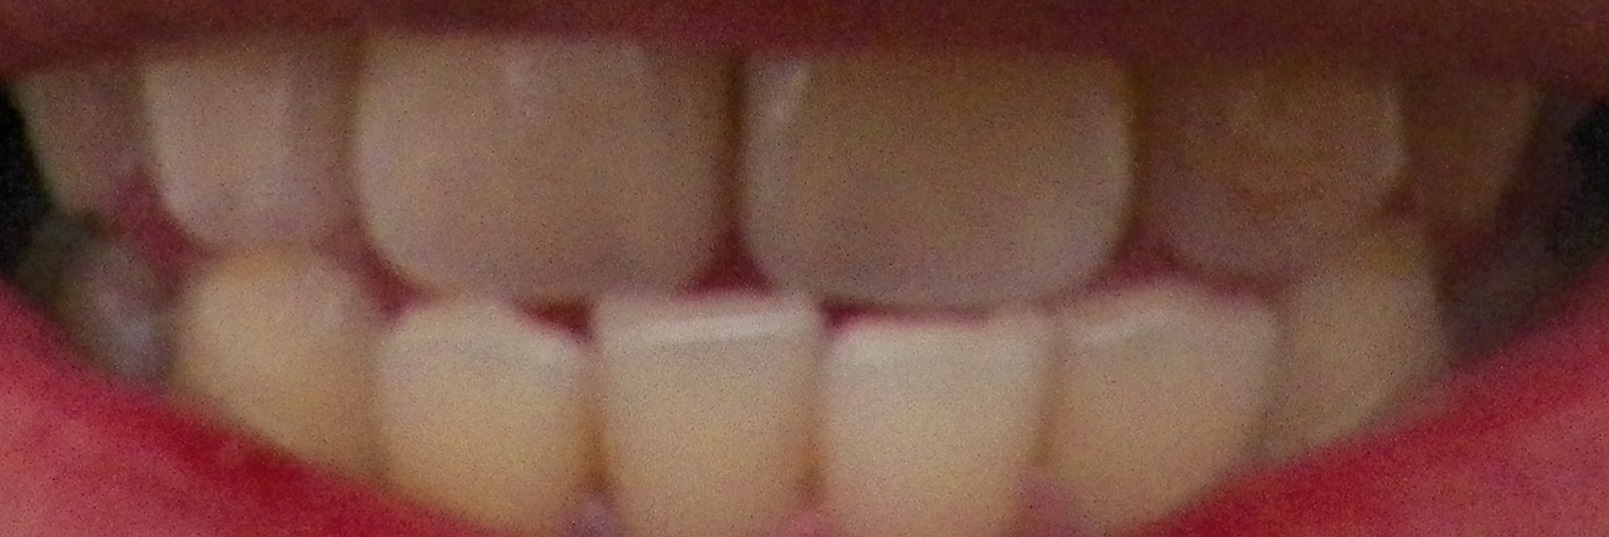boca: (8, 34, 1590, 534)
